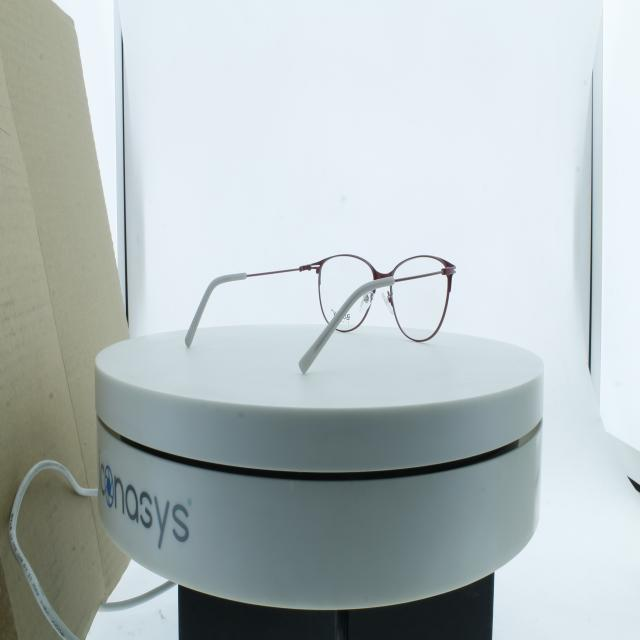Specs: (168, 220, 464, 384)
